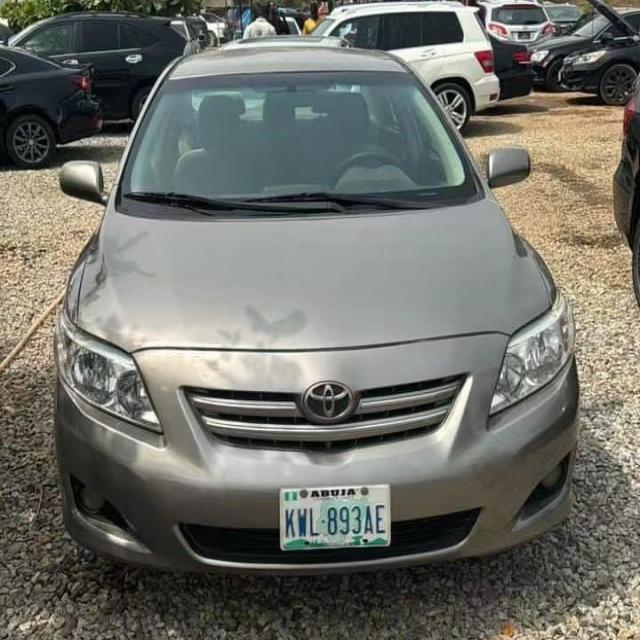Nigerian License Plate - vdataset benjamin-daria: (278, 480, 394, 554)
